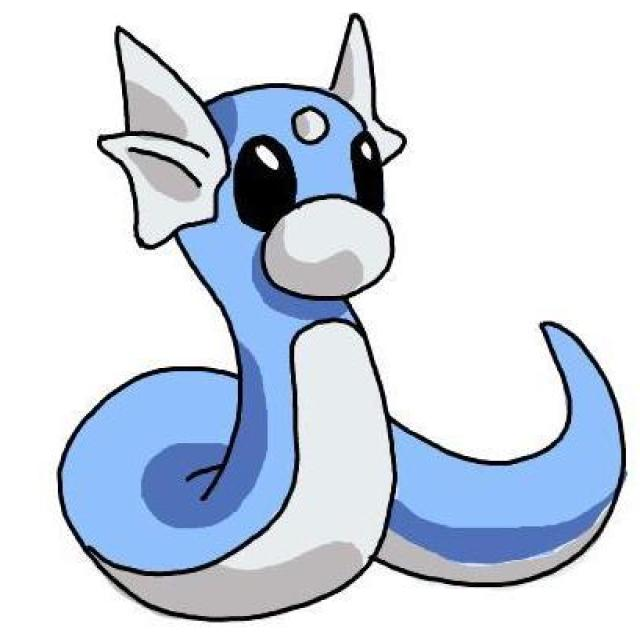Dratini: (55, 14, 408, 617)
